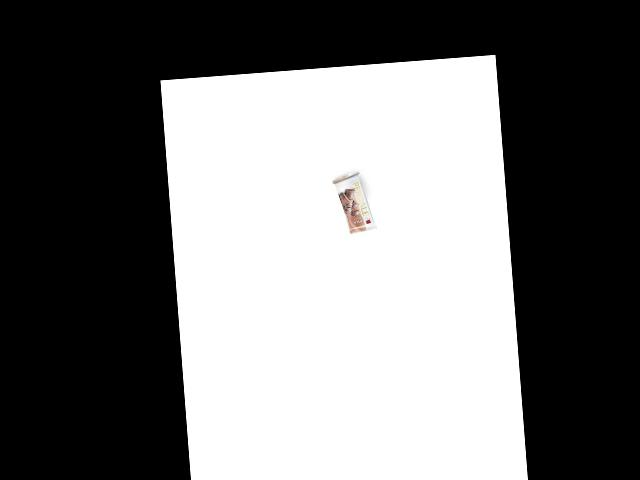chocolate: (327, 174, 378, 235)
